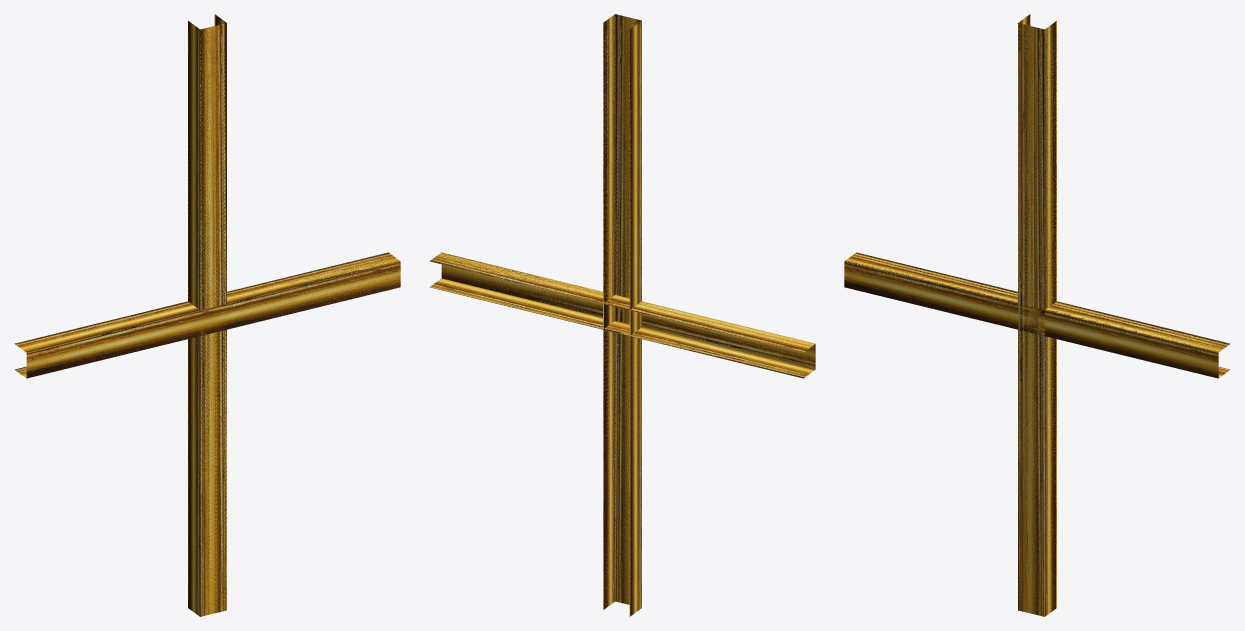
The model's file is huakuang007.obj.
3 views of the same model, side by side, from view 1: azimuth 30°, elevation 25°; view 2: azimuth 150°, elevation 25°; view 3: azimuth 330°, elevation 25° (orthographic).
Visible parts, largest first — view 1: Right, Left, Top, Bottom; view 2: Right, Left, Bottom, Top; view 3: Right, Top, Left, Bottom.
Boxes of the visible parts, box(x1,y1,x2,y2) form: Right: box(188, 14, 226, 616); Left: box(188, 16, 226, 616); Top: box(15, 252, 400, 378); Bottom: box(15, 253, 400, 378); Right: box(603, 14, 641, 615); Left: box(603, 14, 641, 616); Bottom: box(430, 252, 815, 378); Top: box(429, 252, 815, 376); Right: box(1018, 14, 1056, 616); Top: box(844, 252, 1230, 378); Left: box(1018, 15, 1056, 615); Bottom: box(844, 253, 1228, 377).
Bounding box in the file's own units: 1 × 1.5 × 0.0566.
Materials: 1 (1 with a texture image).
